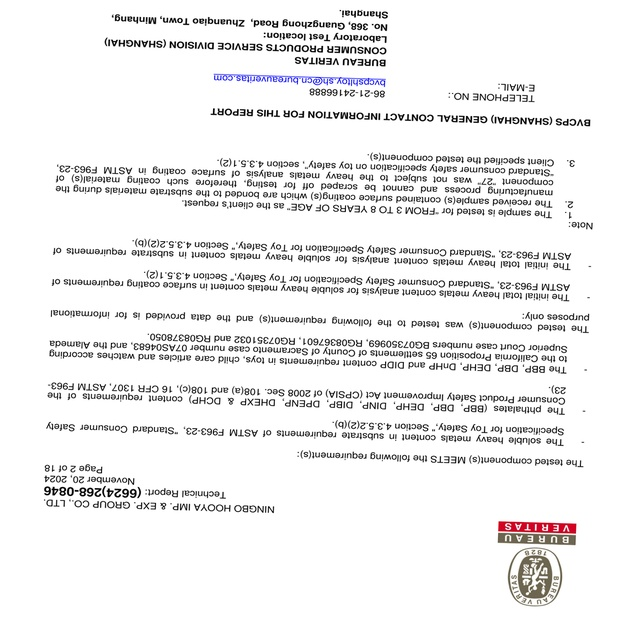bureau_veritas: (496, 518, 579, 610)
